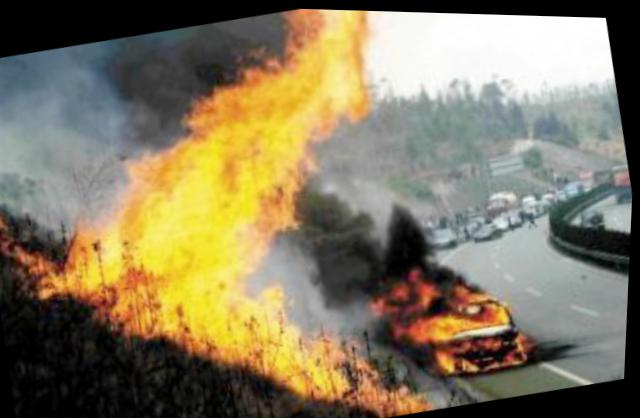fire: (3, 0, 453, 415), (379, 244, 533, 383)
